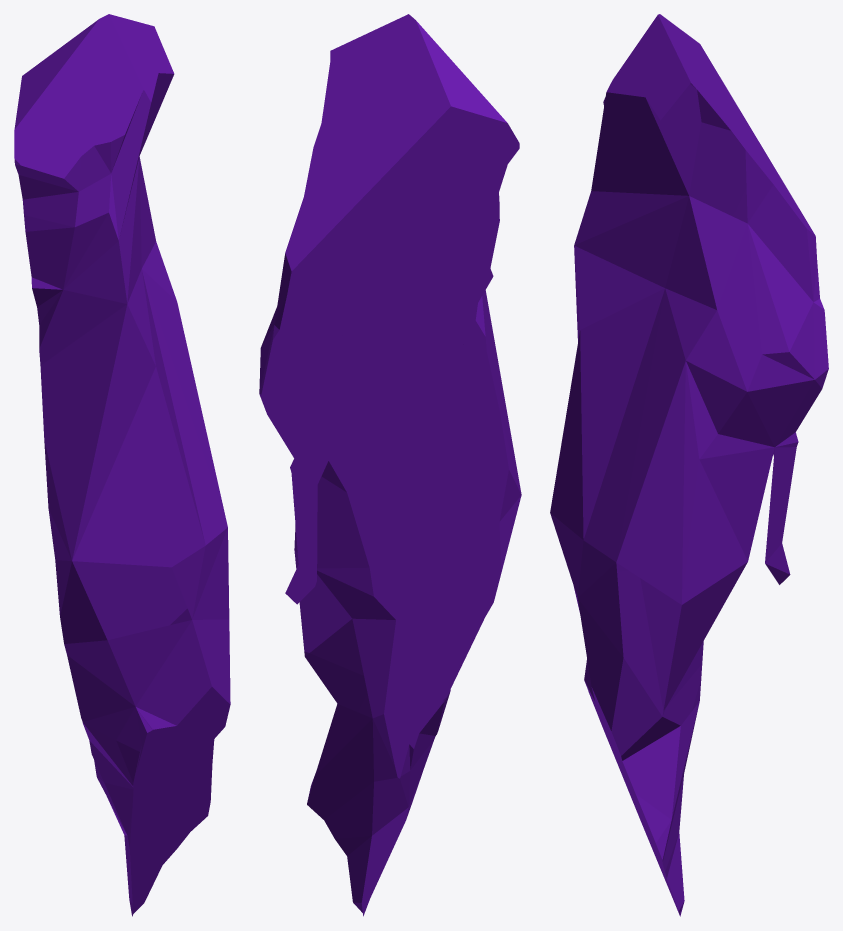
Rendered from TheMan_7_chunks.fbx.
3 views of the same model, side by side, from view 1: azimuth 30°, elevation 25°; view 2: azimuth 150°, elevation 25°; view 3: azimuth 270°, elevation 25° (orthographic). The views are drawn at different scales.
Visible parts, largest first — view 1: TheMan_7_14, TheMan_7_7, TheMan_7_11, TheMan_7_5, TheMan_7_4, TheMan_7_8, TheMan_7_6, TheMan_7_10, TheMan_7_13; view 2: TheMan_7_12, TheMan_7_7, TheMan_7_5, TheMan_7_16, TheMan_7_8, TheMan_7_14, TheMan_7_1, TheMan_7_17, TheMan_7_10, TheMan_7_3, TheMan_7_13, TheMan_7_6 (+3 smaller); view 3: TheMan_7_13, TheMan_7_14, TheMan_7_11, TheMan_7_6, TheMan_7_1, TheMan_7_7, TheMan_7_0, TheMan_7_12, TheMan_7_2, TheMan_7_5, TheMan_7_4.
Boxes of the visible parts, x1,y1,x2,y2 form: TheMan_7_14: [19, 14, 174, 271]; TheMan_7_7: [51, 473, 227, 708]; TheMan_7_11: [53, 245, 223, 506]; TheMan_7_5: [78, 703, 206, 916]; TheMan_7_4: [105, 607, 214, 762]; TheMan_7_8: [39, 305, 108, 527]; TheMan_7_6: [181, 538, 230, 816]; TheMan_7_10: [14, 106, 66, 303]; TheMan_7_13: [140, 190, 205, 429]; TheMan_7_12: [283, 96, 492, 333]; TheMan_7_7: [364, 429, 521, 688]; TheMan_7_5: [307, 678, 455, 916]; TheMan_7_16: [299, 326, 468, 505]; TheMan_7_8: [386, 296, 513, 532]; TheMan_7_14: [310, 14, 500, 163]; TheMan_7_1: [285, 519, 406, 675]; TheMan_7_17: [318, 206, 464, 374]; TheMan_7_10: [425, 115, 519, 258]; TheMan_7_3: [279, 393, 408, 538]; TheMan_7_13: [259, 264, 343, 403]; TheMan_7_6: [304, 651, 370, 804]; TheMan_7_13: [646, 212, 827, 528]; TheMan_7_14: [583, 14, 754, 271]; TheMan_7_11: [561, 218, 662, 547]; TheMan_7_6: [594, 570, 702, 859]; TheMan_7_1: [636, 502, 790, 710]; TheMan_7_7: [550, 443, 638, 610]; TheMan_7_0: [642, 371, 817, 542]; TheMan_7_12: [695, 40, 816, 256]; TheMan_7_2: [748, 358, 828, 542]; TheMan_7_5: [597, 679, 701, 916]; TheMan_7_4: [572, 580, 611, 740].
Size of the model in its own units: 352 by 1489 by 425.
